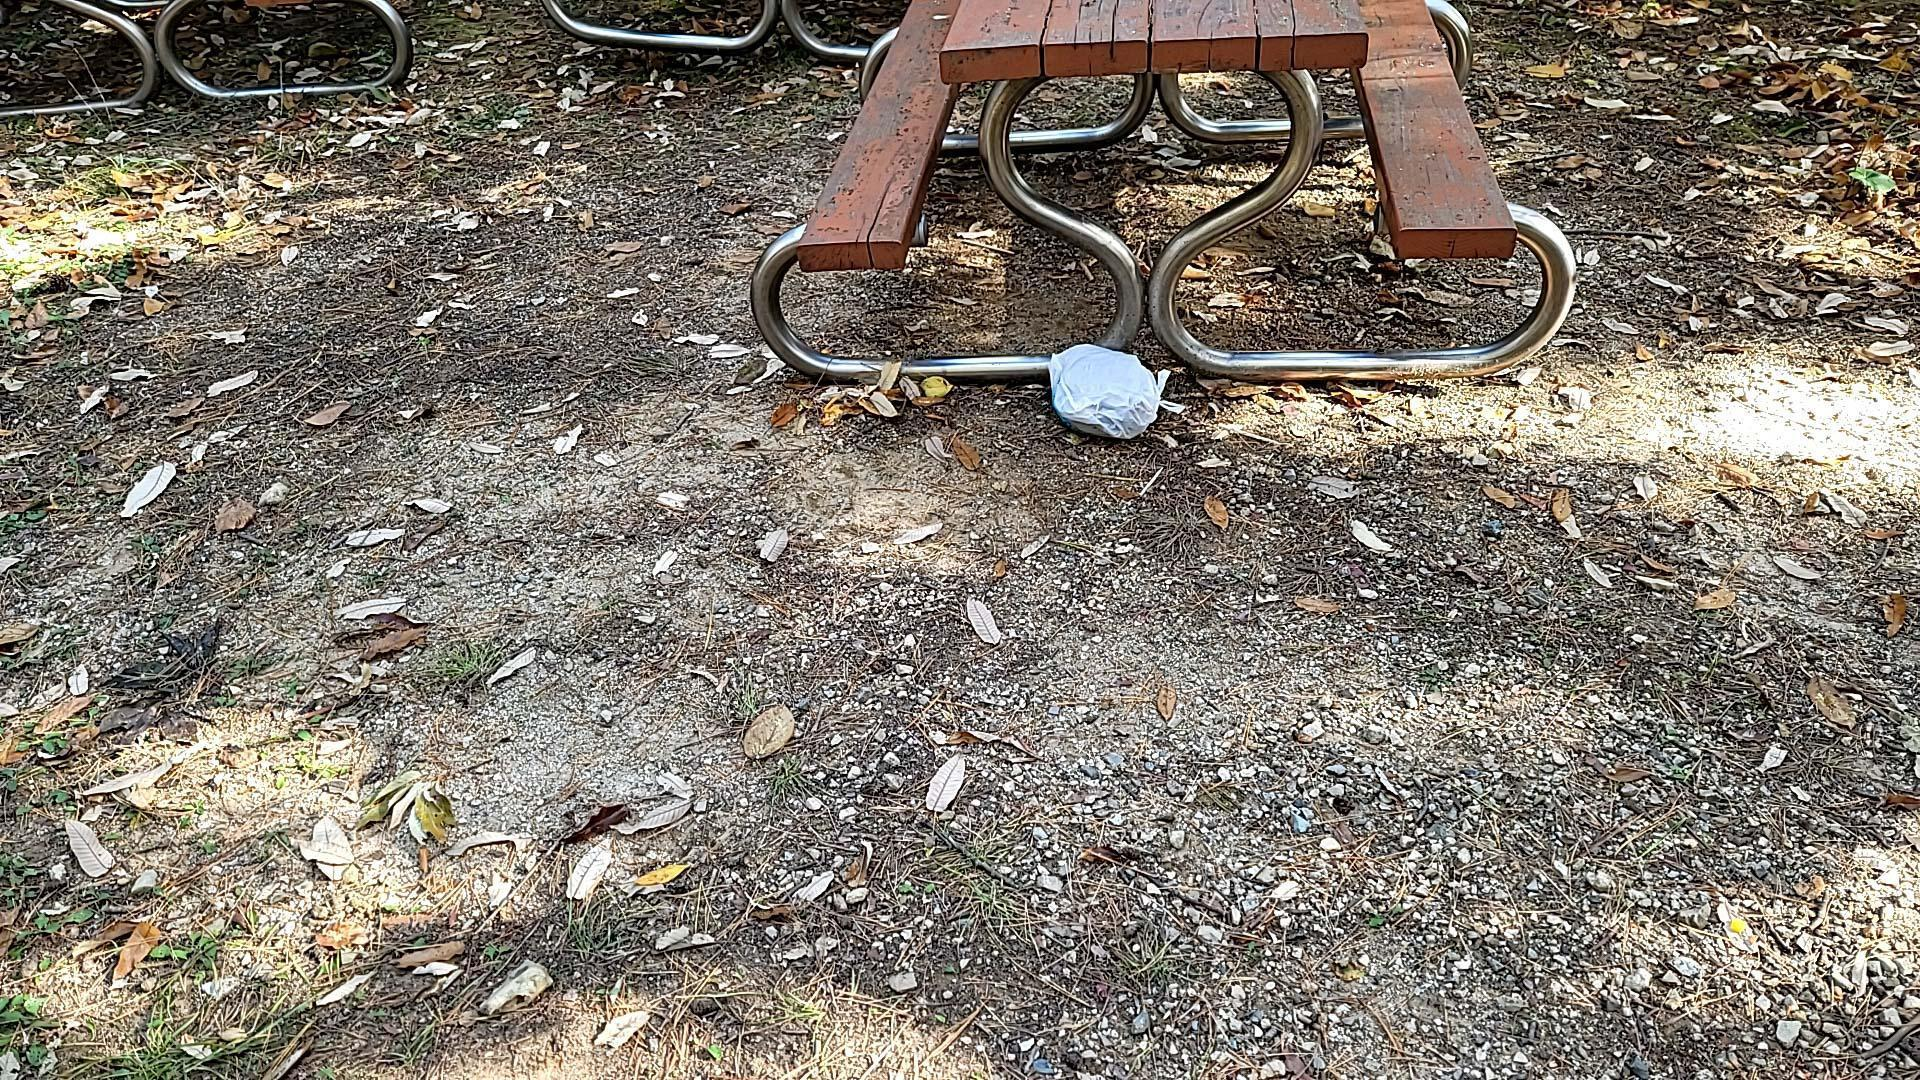white_bag: (1040, 339, 1175, 447)
